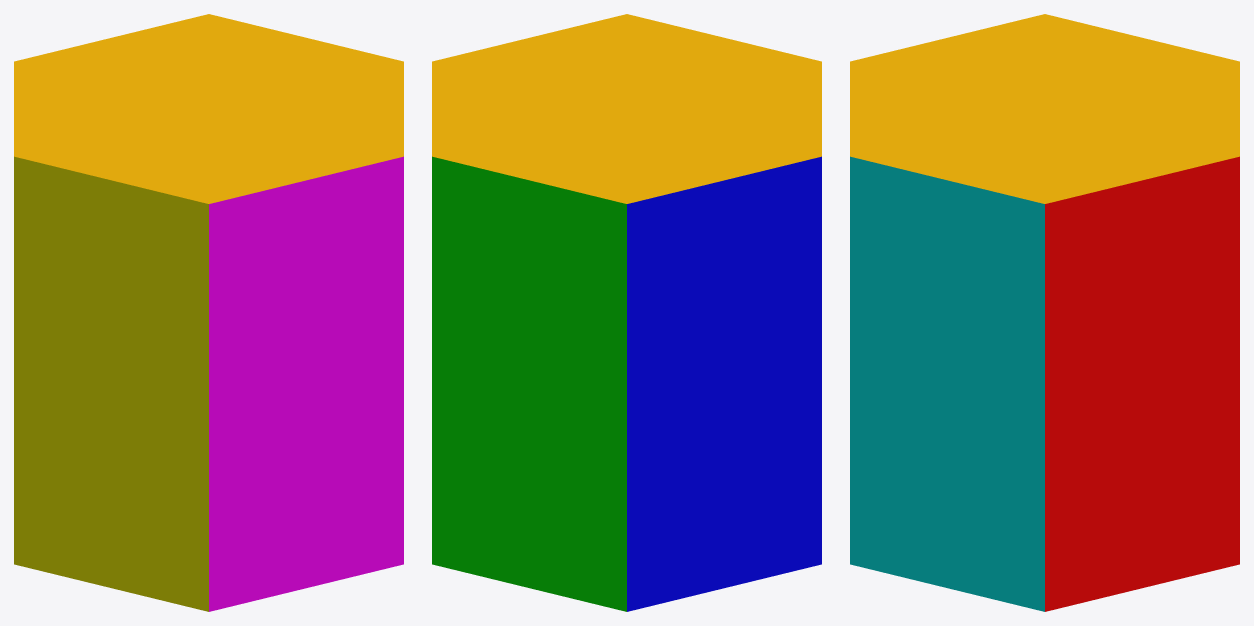
Rendered from prisma_hexagonal_regular.glb.
3 views of the same model, side by side, from view 1: azimuth 30°, elevation 25°; view 2: azimuth 150°, elevation 25°; view 3: azimuth 270°, elevation 25° (orthographic).
Parts seen in each view (by area): view 1: PrismaHexagonalColorido; view 2: PrismaHexagonalColorido; view 3: PrismaHexagonalColorido.
Part boxes in pixels (box(x1,y1,x2,y2)): PrismaHexagonalColorido: box(14, 14, 403, 611); PrismaHexagonalColorido: box(432, 14, 821, 611); PrismaHexagonalColorido: box(850, 14, 1239, 611).
Bounding box in the file's own units: 2 × 2 × 1.73.
